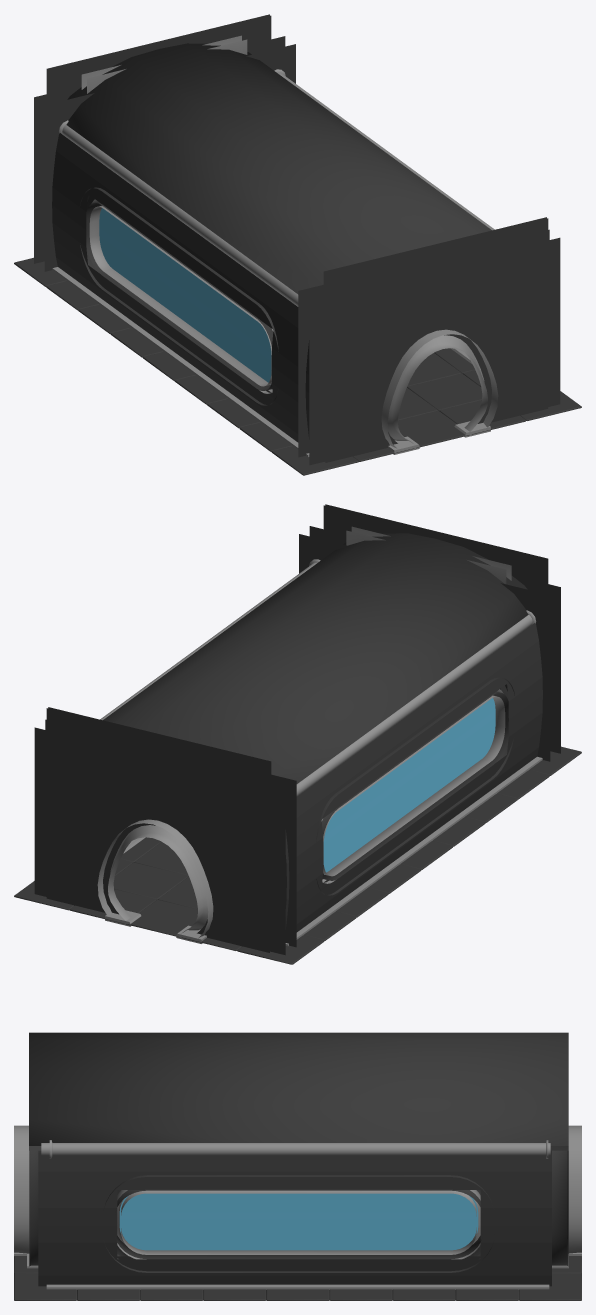
File: SM_Corridor_A.fbx
The picture shows the model from 3 angles, top to bottom: view 1: azimuth 30°, elevation 25°; view 2: azimuth 150°, elevation 25°; view 3: azimuth 270°, elevation 25°; orthographic projection. The views are drawn at different scales.
Visible parts, largest first — view 1: SM_Corridor_A; view 2: SM_Corridor_A; view 3: SM_Corridor_A.
Boxes of the visible parts, x1,y1,x2,y2 form: SM_Corridor_A: (14, 14, 581, 475); SM_Corridor_A: (14, 504, 581, 964); SM_Corridor_A: (14, 1032, 581, 1300).
Size of what is drawn, in the model's own units: 1000 by 678 by 1800.
